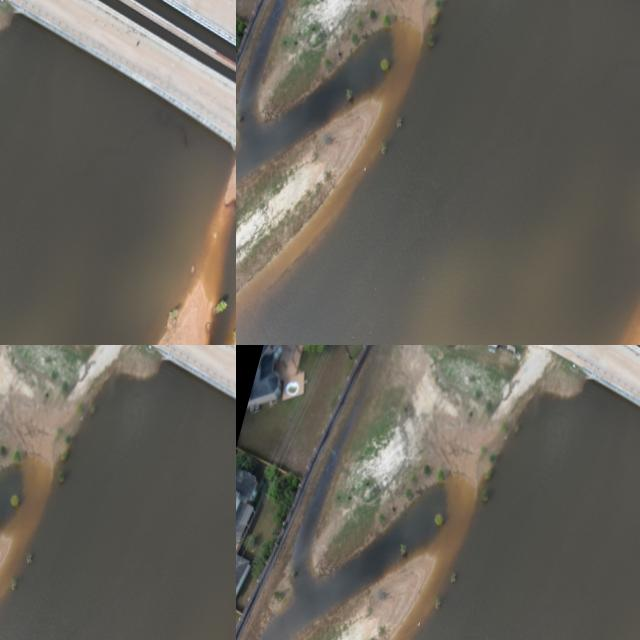fire: (0, 0, 236, 345), (411, 380, 640, 640), (255, 397, 447, 640), (29, 345, 127, 640)
